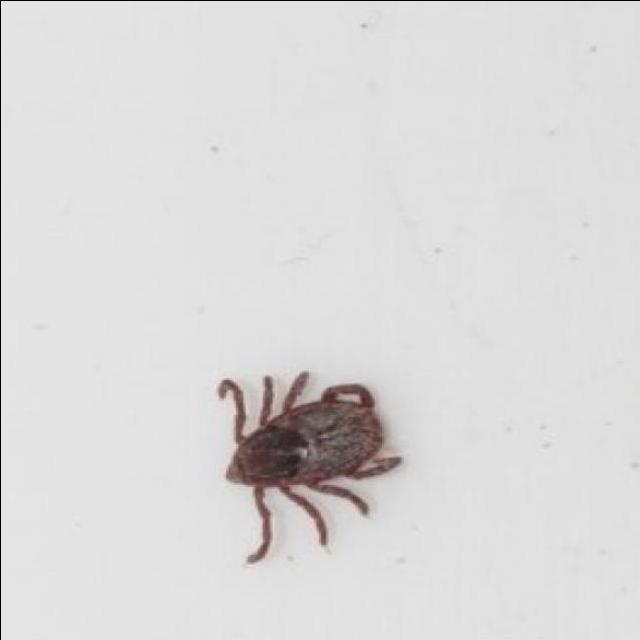Rhipicephalus Sanguineus-F: (215, 372, 403, 565)
